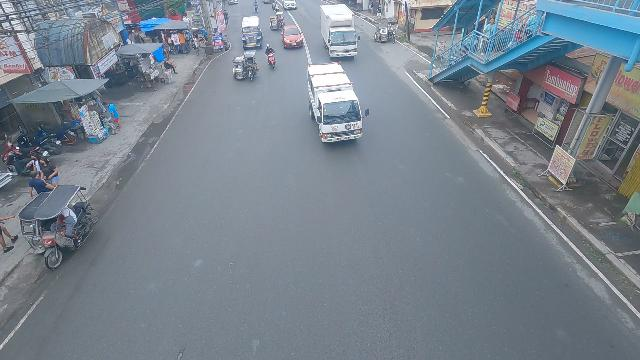car: (278, 25, 304, 50), (282, 0, 297, 10)
jeepney: (240, 15, 263, 50)
motorcycle: (263, 43, 279, 72), (274, 1, 280, 15), (253, 0, 259, 13), (271, 0, 276, 9)
truck: (318, 3, 358, 61)
van: (303, 60, 366, 144)
